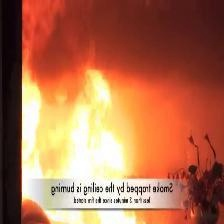fire: (20, 70, 114, 177)
smoke: (24, 1, 221, 84)
